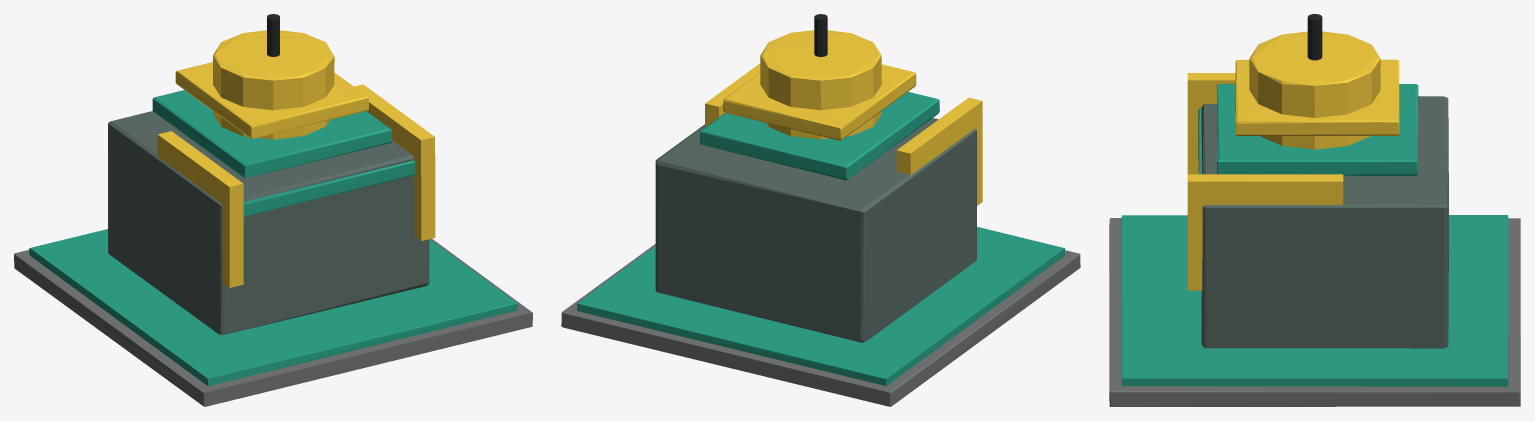
The model's file is SM_Coalition_CO_ConYard_LOD2.fbx.
3 renders of one model, left to right at view 1: azimuth 30°, elevation 25°; view 2: azimuth 150°, elevation 25°; view 3: azimuth 270°, elevation 25°, orthographic. The views are drawn at different scales.
Parts seen in each view (by area): view 1: LOD02_SM_Coalition_CO_ConYard; view 2: LOD02_SM_Coalition_CO_ConYard; view 3: LOD02_SM_Coalition_CO_ConYard.
Boxes of the visible parts, x1=… form: LOD02_SM_Coalition_CO_ConYard: x1=14, y1=14, x2=532, y2=406; LOD02_SM_Coalition_CO_ConYard: x1=561, y1=14, x2=1080, y2=406; LOD02_SM_Coalition_CO_ConYard: x1=1109, y1=14, x2=1520, y2=406.
Size of the model in its own units: 799 by 798 by 650.
